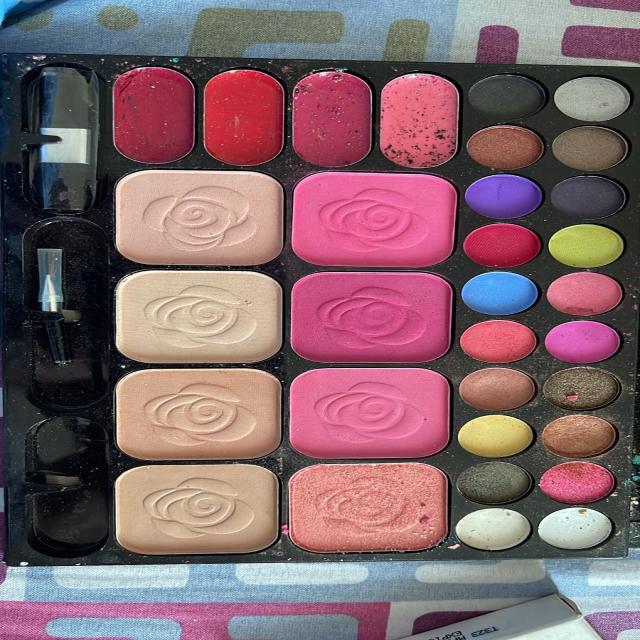blush: (272, 155, 468, 559)
eye shade: (449, 153, 640, 556), (108, 59, 640, 179)
powder: (100, 163, 282, 559)
